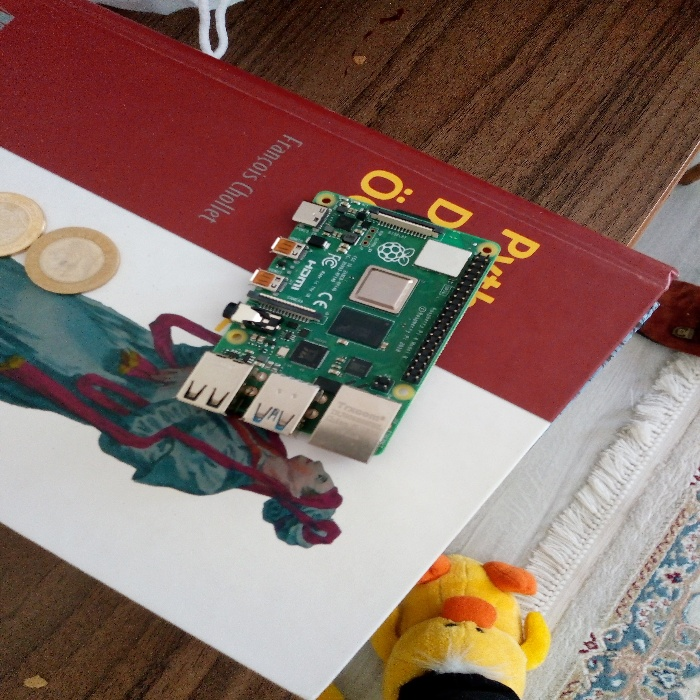raspberry: (172, 171, 492, 461)
